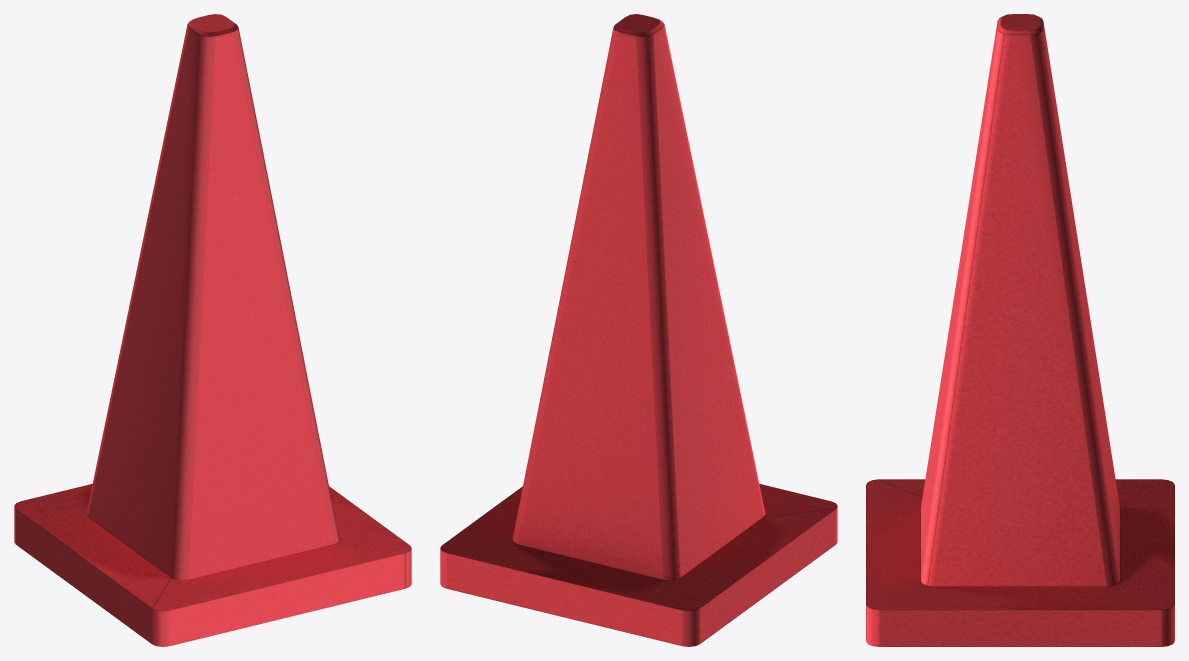
File: ConeBarrel.obj
The picture shows the model from 3 angles, left to right: view 1: azimuth 30°, elevation 25°; view 2: azimuth 150°, elevation 25°; view 3: azimuth 270°, elevation 25°; orthographic projection. The views are drawn at different scales.
Visible parts, largest first — view 1: Default; view 2: Default; view 3: Default.
Part boxes in pixels (<box>): Default: <box>14,14,411,646</box>; Default: <box>440,14,837,646</box>; Default: <box>866,14,1174,646</box>.
Bounding box in the file's own units: 17.71 × 35.4 × 17.71.
